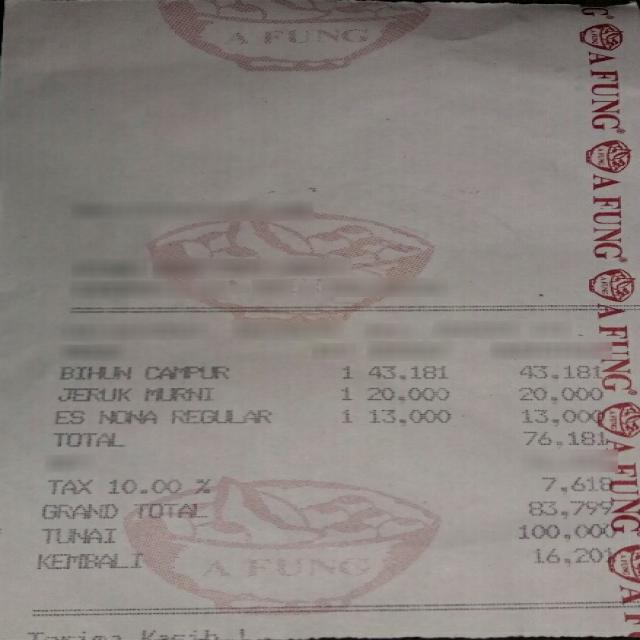text: (513, 523, 618, 540), (34, 552, 138, 568), (525, 499, 614, 517), (532, 546, 614, 565), (520, 406, 604, 424), (518, 383, 604, 400), (168, 408, 270, 422), (520, 430, 604, 447), (518, 364, 600, 380), (38, 527, 115, 544), (106, 477, 178, 494), (141, 365, 226, 379), (538, 475, 611, 491), (366, 408, 446, 422), (366, 365, 443, 379), (364, 386, 444, 399), (41, 502, 115, 516), (51, 432, 121, 446), (132, 502, 202, 516), (142, 386, 208, 400), (57, 365, 128, 378), (57, 386, 128, 399), (96, 409, 155, 424), (45, 479, 89, 493), (51, 406, 83, 424), (192, 478, 212, 493), (336, 386, 352, 402), (337, 408, 351, 424), (337, 364, 350, 380)
